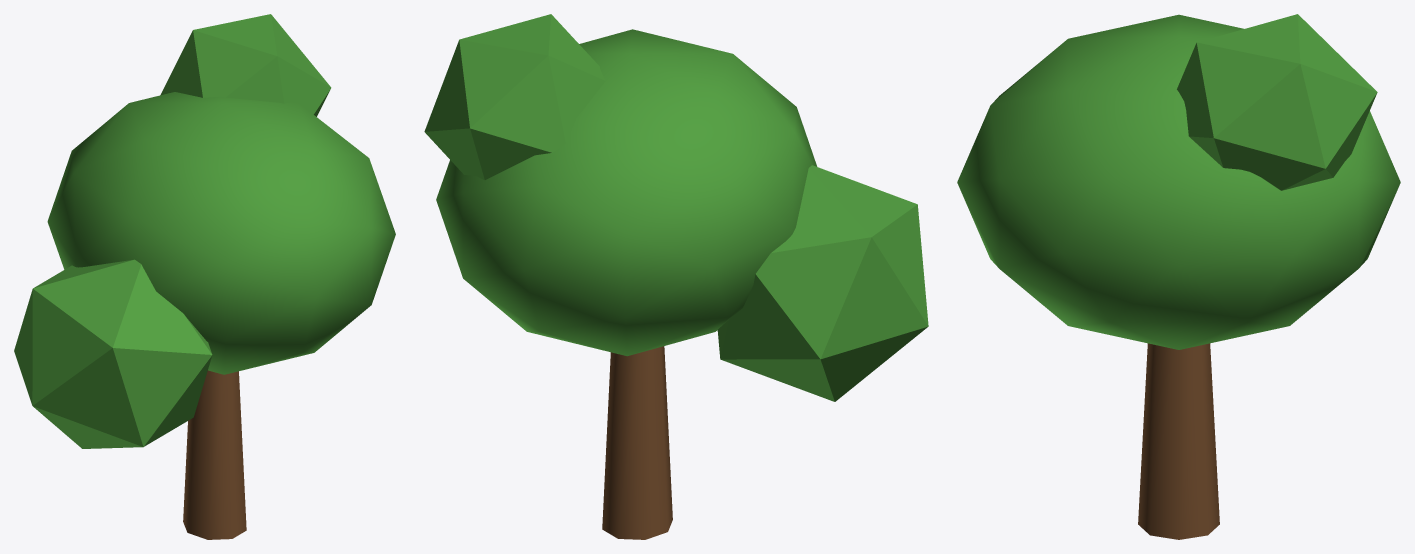
The model's file is tree.glb.
The picture shows the model from 3 angles, left to right: view 1: azimuth 30°, elevation 25°; view 2: azimuth 150°, elevation 25°; view 3: azimuth 270°, elevation 25°; orthographic projection. The views are drawn at different scales.
Parts seen in each view (by area): view 1: crown_main, crown_side, crown_top, trunk; view 2: crown_main, crown_side, crown_top, trunk; view 3: crown_main, crown_top, trunk.
Part boxes in pixels (left/top/right/bottom): crown_main: left=47, top=92, right=395, bottom=374; crown_side: left=14, top=259, right=212, bottom=448; crown_top: left=160, top=14, right=331, bottom=116; trunk: left=183, top=370, right=246, bottom=539; crown_main: left=436, top=29, right=817, bottom=356; crown_side: left=717, top=165, right=928, bottom=401; crown_top: left=424, top=14, right=605, bottom=180; trunk: left=602, top=346, right=672, bottom=539; crown_main: left=957, top=14, right=1400, bottom=349; crown_top: left=1177, top=14, right=1377, bottom=190; trunk: left=1138, top=343, right=1219, bottom=539.
Bounding box in the file's own units: 3.3 × 3.8 × 2.9.
